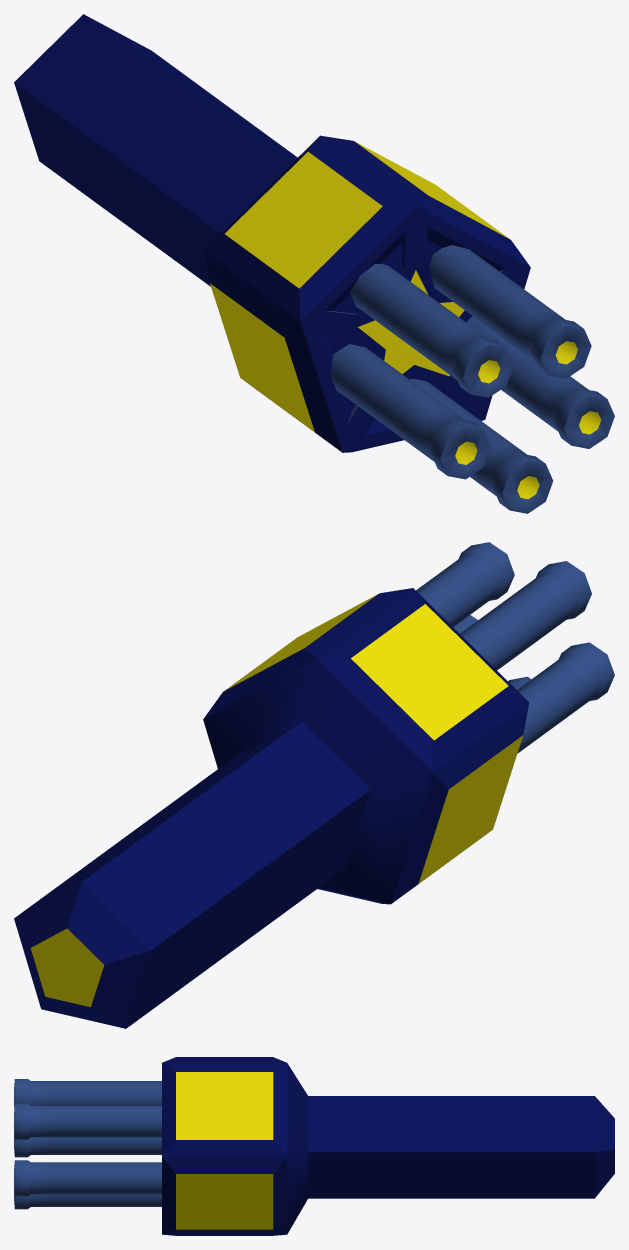
File: Vso_Station_Cannon_GatlingMode_Barrel_V2.fbx
The picture shows the model from 3 angles, top to bottom: view 1: azimuth 30°, elevation 25°; view 2: azimuth 150°, elevation 25°; view 3: azimuth 270°, elevation 25°; orthographic projection. The views are drawn at different scales.
Parts seen in each view (by area): view 1: Vso_Station_Cannon_GatlingMode_Barrel; view 2: Vso_Station_Cannon_GatlingMode_Barrel; view 3: Vso_Station_Cannon_GatlingMode_Barrel.
Boxes of the visible parts, box(x1,y1,x2,y2) form: Vso_Station_Cannon_GatlingMode_Barrel: box(14, 14, 614, 513); Vso_Station_Cannon_GatlingMode_Barrel: box(14, 542, 614, 1028); Vso_Station_Cannon_GatlingMode_Barrel: box(14, 1057, 614, 1235).
Bounding box in the file's own units: 0.4143 × 0.3995 × 1.38.
